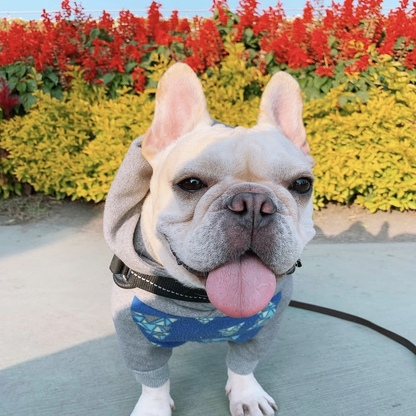bulldog: (107, 59, 317, 416)
